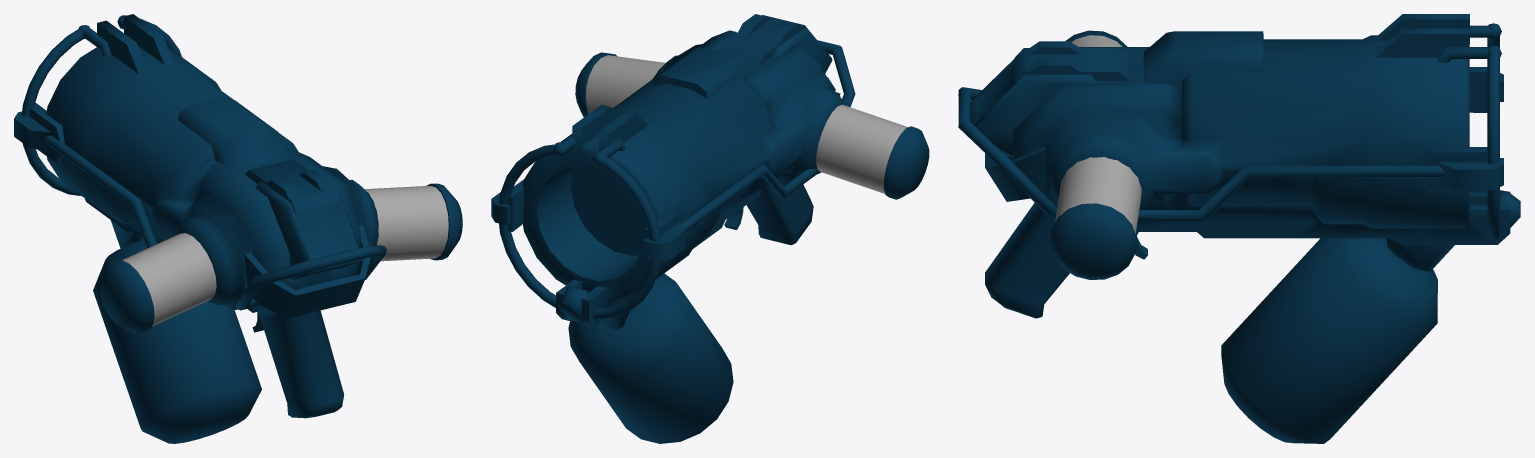
The model's file is Weapon_Fireballer.fbx.
The picture shows the model from 3 angles, left to right: view 1: azimuth 30°, elevation 25°; view 2: azimuth 150°, elevation 25°; view 3: azimuth 270°, elevation 25°; orthographic projection. The views are drawn at different scales.
Visible parts, largest first — view 1: Main_Weapon, Canister_01, Canister_02; view 2: Main_Weapon, Canister_01, Canister_02; view 3: Main_Weapon, Canister_02, Canister_01.
Part boxes in pixels (x1,y1,x2,y2): Main_Weapon: (14,14,386,443); Canister_01: (100,233,216,333); Canister_02: (365,183,462,261); Main_Weapon: (491,14,855,443); Canister_01: (816,104,929,199); Canister_02: (575,52,665,117); Main_Weapon: (958,14,1520,443); Canister_02: (1050,157,1141,279); Canister_01: (1065,30,1127,46).
Bounding box in the file's own units: 113 × 115 × 142.
